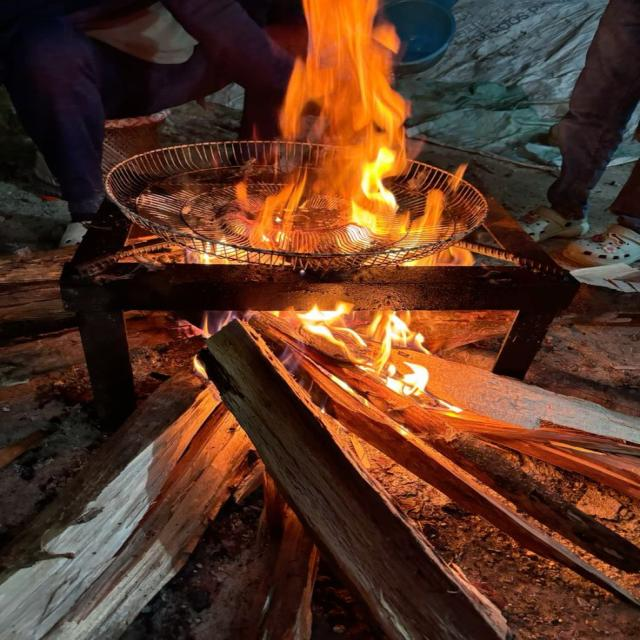fire: (230, 1, 470, 251), (301, 300, 428, 402)
